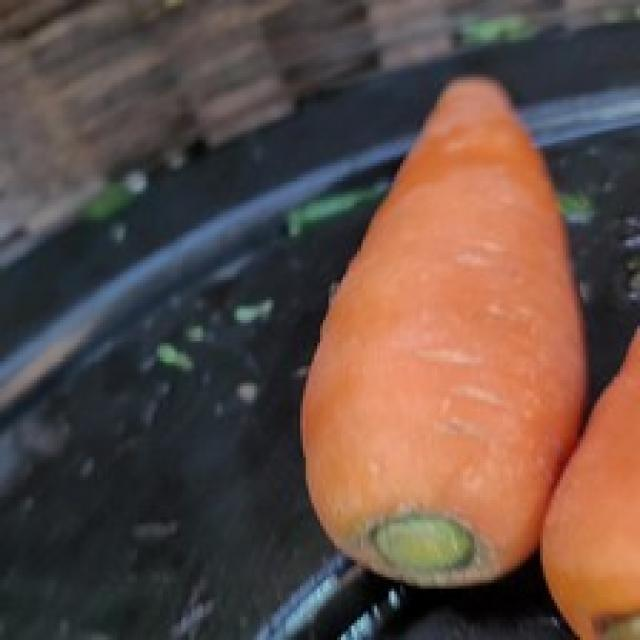carrot: (306, 77, 586, 587)
